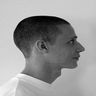ear: (29, 35, 55, 58)
